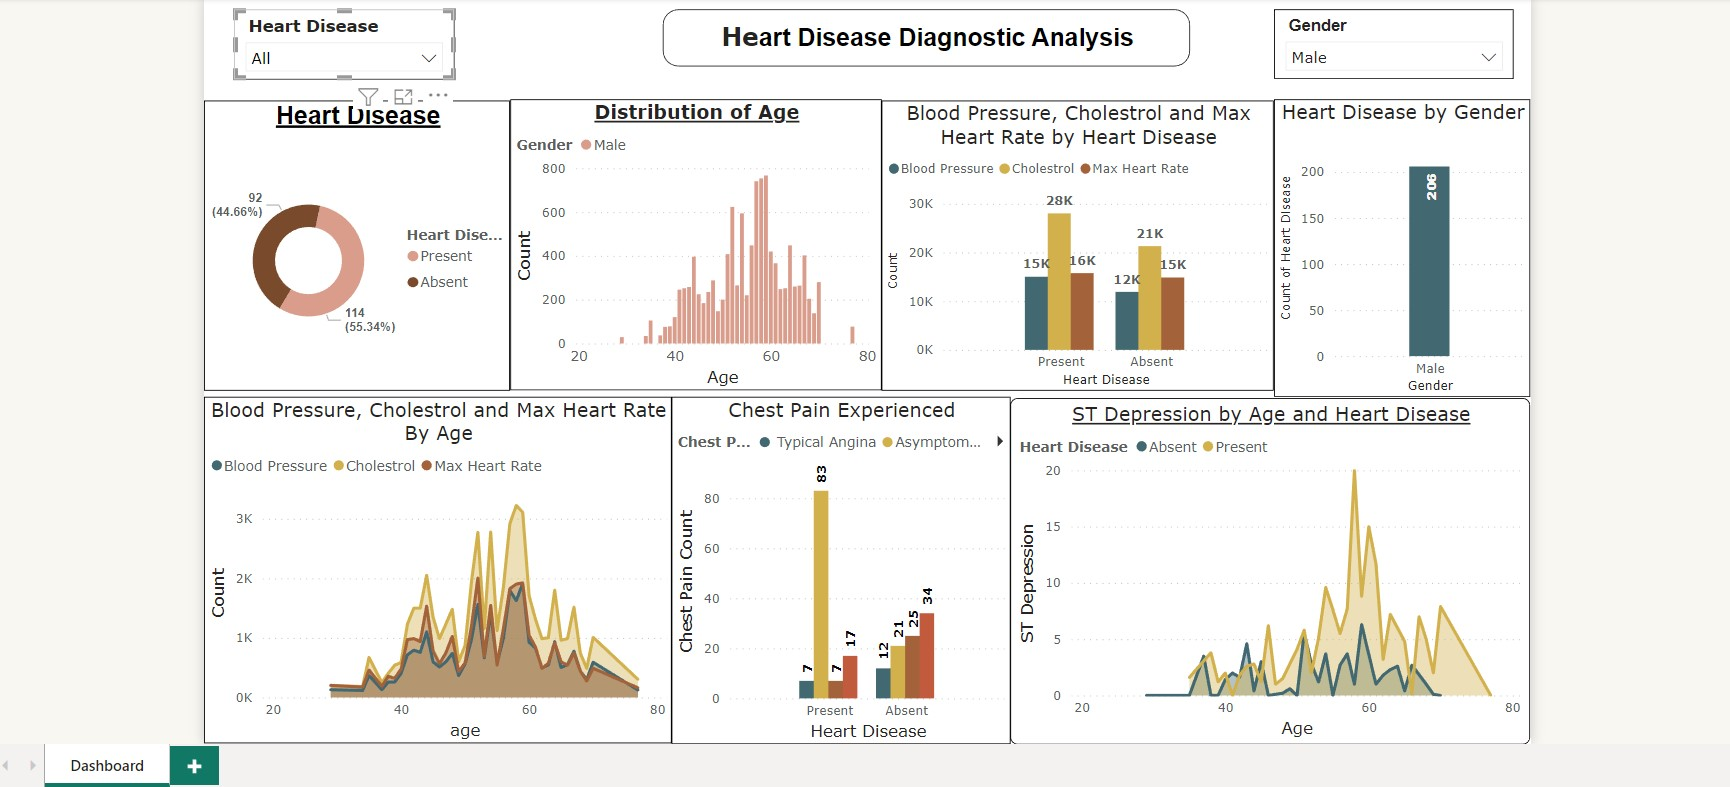

The page's visual inventory and layout, read from the dashboard file:
{"tool":"powerbi","page":{"name":"Dashboard","canvas":[1280,720],"ordinal":0},"visuals":[{"type":"clusteredColumnChart","title":"Heart Disease by Gender","fields":{"Category":["heart_disease_dataset.Gender"],"Y":["CountNonNull(heart_disease_dataset.Heart Disease)"]},"box":[1032.4,97.7,247.2,287],"z":0},{"type":"donutChart","title":"Heart Disease","fields":{"Y":["CountNonNull(heart_disease_dataset.Heart Disease)"],"Category":["heart_disease_dataset.Heart Disease"]},"box":[0,98.9,295.5,279.8],"z":1000},{"type":"lineStackedColumnComboChart","title":"Distribution of Age","fields":{"Category":["heart_disease_dataset.age"],"Y":["Sum(heart_disease_dataset.age)"],"Series":["heart_disease_dataset.Gender"]},"box":[295.5,97.7,358.2,281],"z":2000},{"type":"clusteredColumnChart","title":"Chest Pain Experienced","fields":{"Category":["heart_disease_dataset.Heart Disease"],"Y":["CountNonNull(heart_disease_dataset.chest pain)"],"Series":["heart_disease_dataset.chest pain"]},"box":[451.1,384.7,326.8,335.3],"z":3000},{"type":"areaChart","title":"Blood Pressure, Cholestrol and Max Heart Rate By Age","fields":{"Category":["heart_disease_dataset.age"],"Y":["Sum(heart_disease_dataset.Blood Pressure)","Sum(heart_disease_dataset.Cholestrol)","Sum(heart_disease_dataset.Max Heart Rate)"]},"box":[0,384.7,451.1,334.1],"z":4000},{"type":"clusteredColumnChart","title":"Blood Pressure, Cholestrol and Max Heart Rate by Heart Disease","fields":{"Category":["heart_disease_dataset.Heart Disease"],"Y":["Sum(heart_disease_dataset.trestbps)","Sum(heart_disease_dataset.chol)","Sum(heart_disease_dataset.thalach)"]},"box":[653.7,98.9,378.7,279.8],"z":5000},{"type":"areaChart","title":"ST Depression by Age and Heart Disease","fields":{"Category":["heart_disease_dataset.age"],"Series":["heart_disease_dataset.Heart Disease"],"Y":["Sum(heart_disease_dataset.oldpeak)"]},"box":[777.9,385.9,501.7,334.1],"z":6000},{"type":"slicer","fields":{"Values":["heart_disease_dataset.Gender"]},"box":[1032.4,10.9,231.6,67.5],"z":7000},{"type":"slicer","fields":{"Values":["heart_disease_dataset.Heart Disease"]},"box":[28.7,10.7,212.5,68.1],"z":8000},{"type":"textbox","box":[442.6,10.9,508.9,55.5],"z":8001}]}

Visuals, with their boxes in screenshot pixels (x1, y1, x2, y2):
"Heart Disease by Gender" clusteredColumnChart: (x1=1274, y1=97, x2=1531, y2=396)
"Heart Disease" donutChart: (x1=198, y1=99, x2=506, y2=390)
"Distribution of Age" lineStackedColumnComboChart: (x1=506, y1=97, x2=879, y2=390)
"Chest Pain Experienced" clusteredColumnChart: (x1=668, y1=396, x2=1008, y2=745)
"Blood Pressure, Cholestrol and Max Heart Rate By Age" areaChart: (x1=198, y1=396, x2=668, y2=744)
"Blood Pressure, Cholestrol and Max Heart Rate by Heart Disease" clusteredColumnChart: (x1=879, y1=99, x2=1274, y2=390)
"ST Depression by Age and Heart Disease" areaChart: (x1=1008, y1=397, x2=1531, y2=745)
slicer - heart_disease_dataset.Gender: (x1=1274, y1=7, x2=1515, y2=77)
slicer - heart_disease_dataset.Heart Disease: (x1=228, y1=7, x2=449, y2=78)
textbox: (x1=659, y1=7, x2=1189, y2=65)
